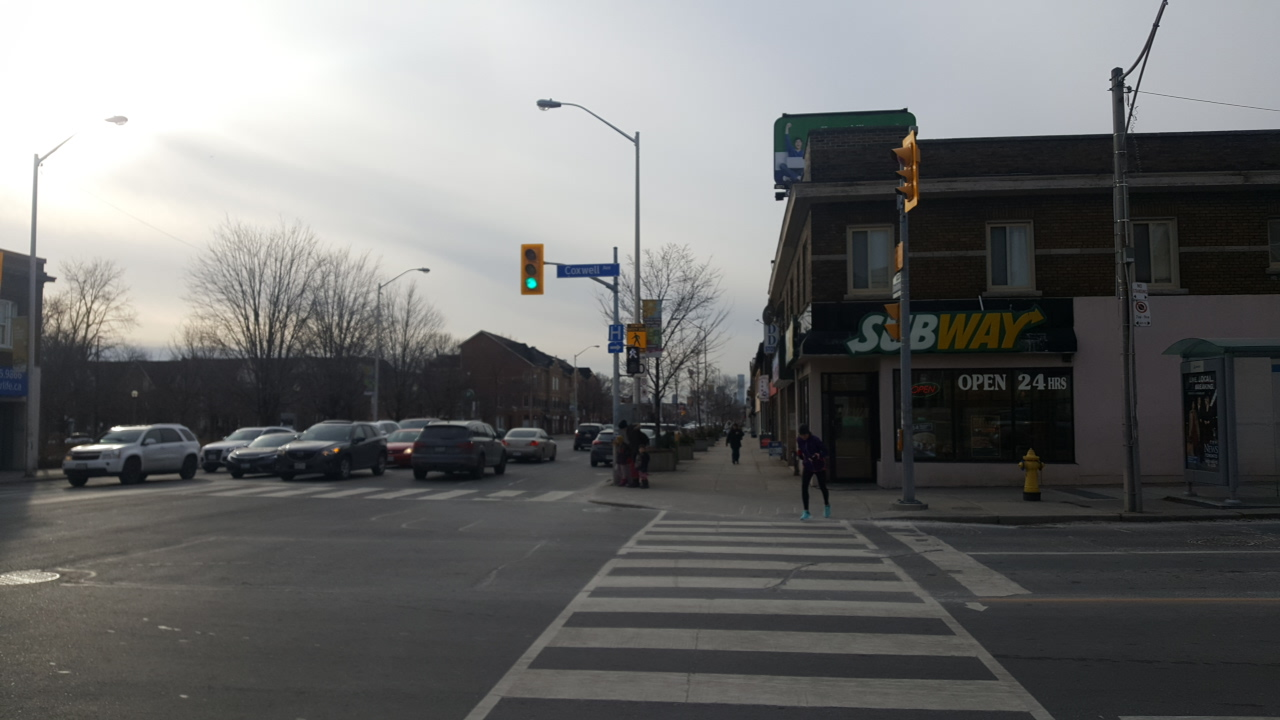light: (623, 343, 642, 376)
